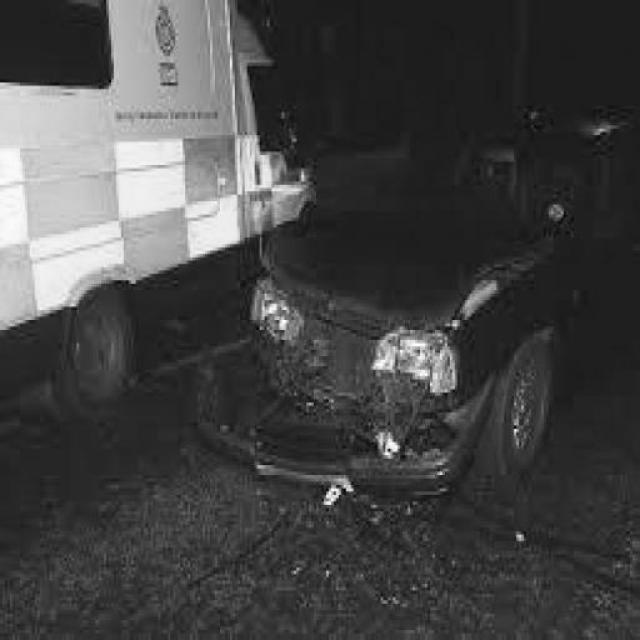crush: (195, 243, 512, 497)
